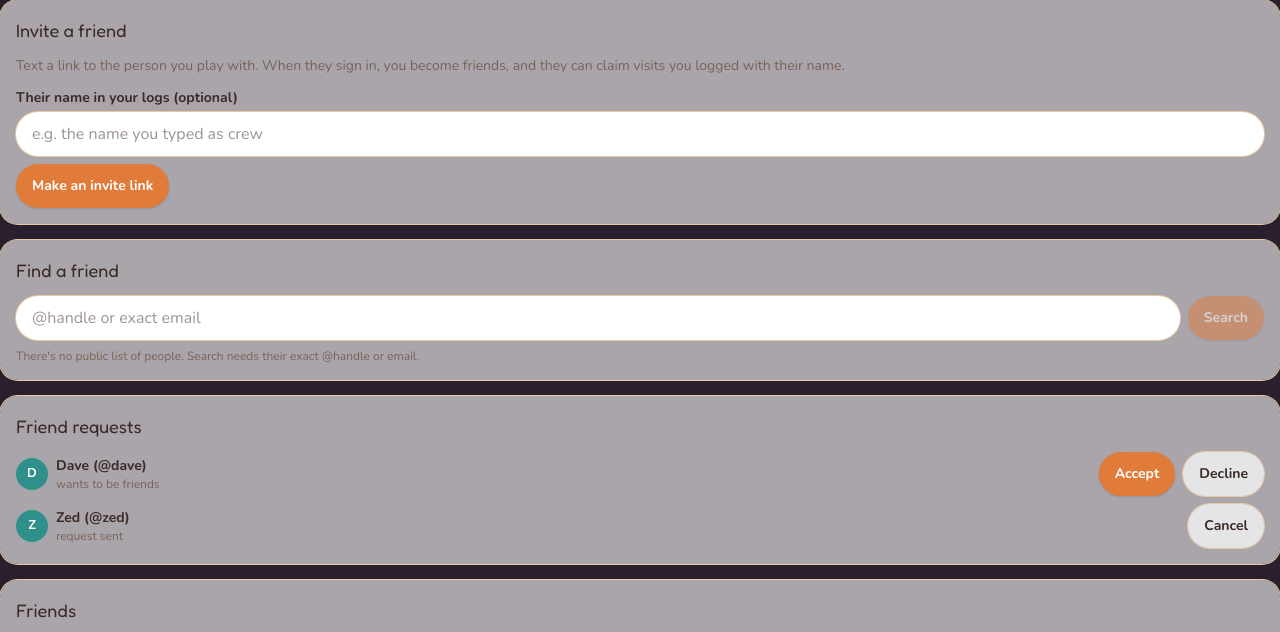
it: FriendsPanel › searches by @handle and sends a request
Type " Carol " into the field with test id "friend-search-input" at [598, 318], box [16,296,1180,340]
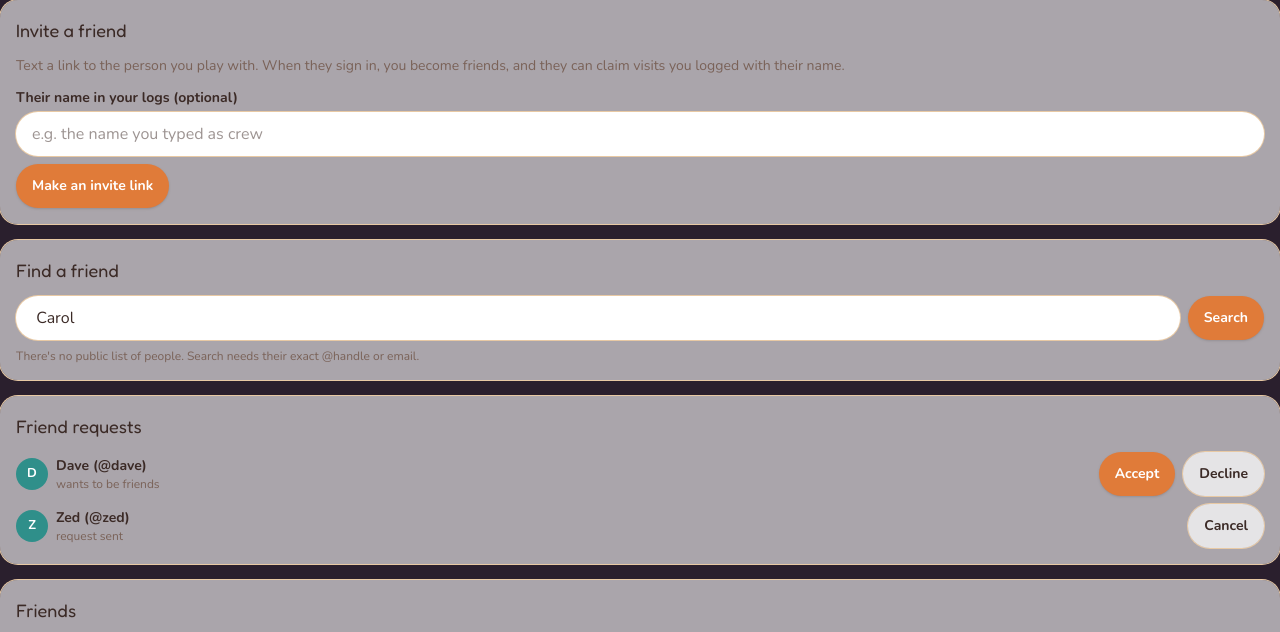
Click the button with test id "friend-search-submit" at [1226, 318], box [1188,296,1264,340]
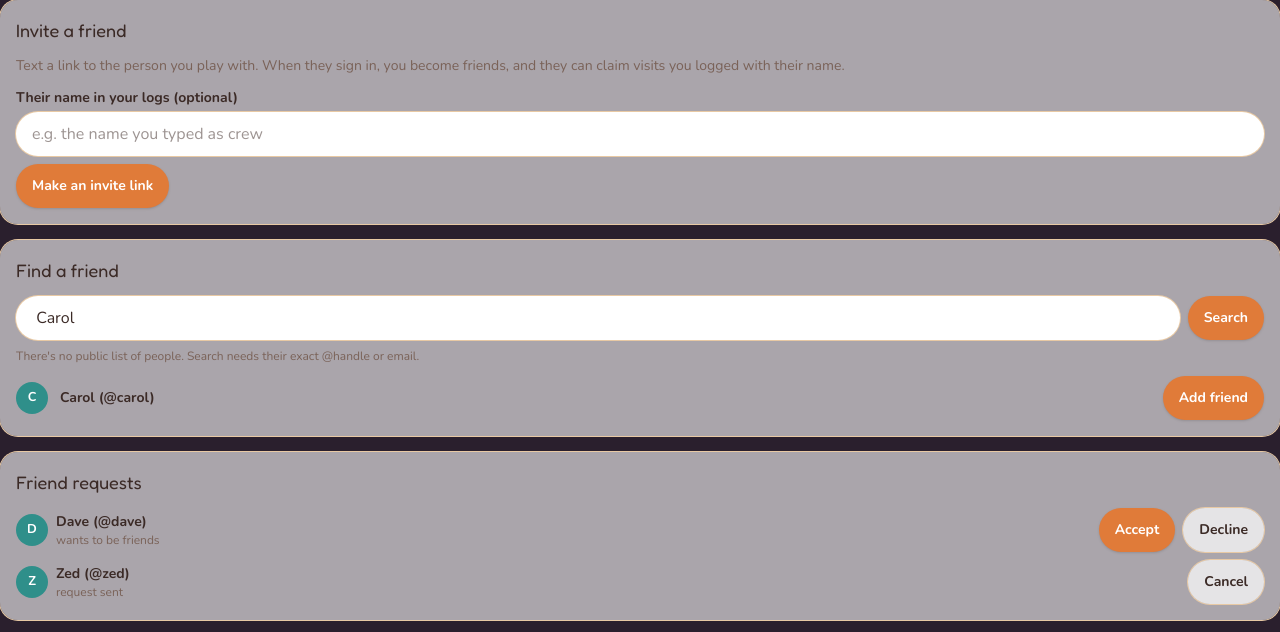
Expected: the list item with test id "friend-search-result" shows "Carol (@carol)", [60,388,155,407]
Click the button with test id "friend-add" at [1213, 398], box [1163,376,1264,420]
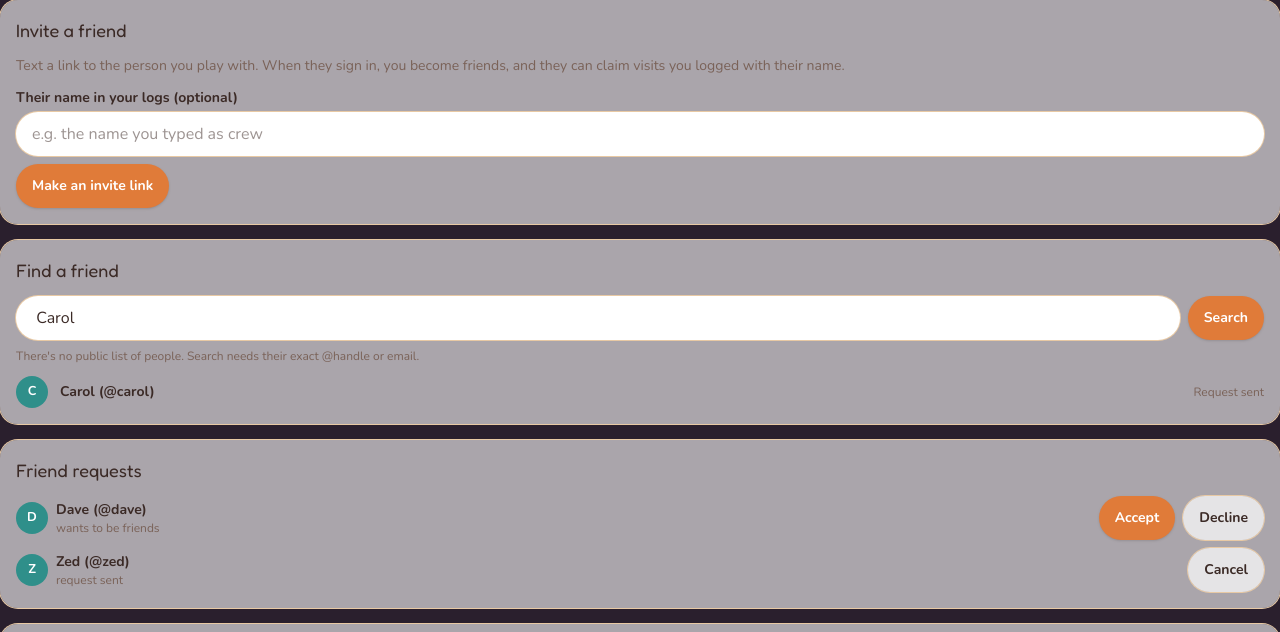
Expected: the text with test id "friend-relation" reads "Request sent", [1193,384,1264,400]
Replace the text in the field with test id "friend-search-input" with "nobody@example.com" at [598, 318], box [16,296,1180,340]
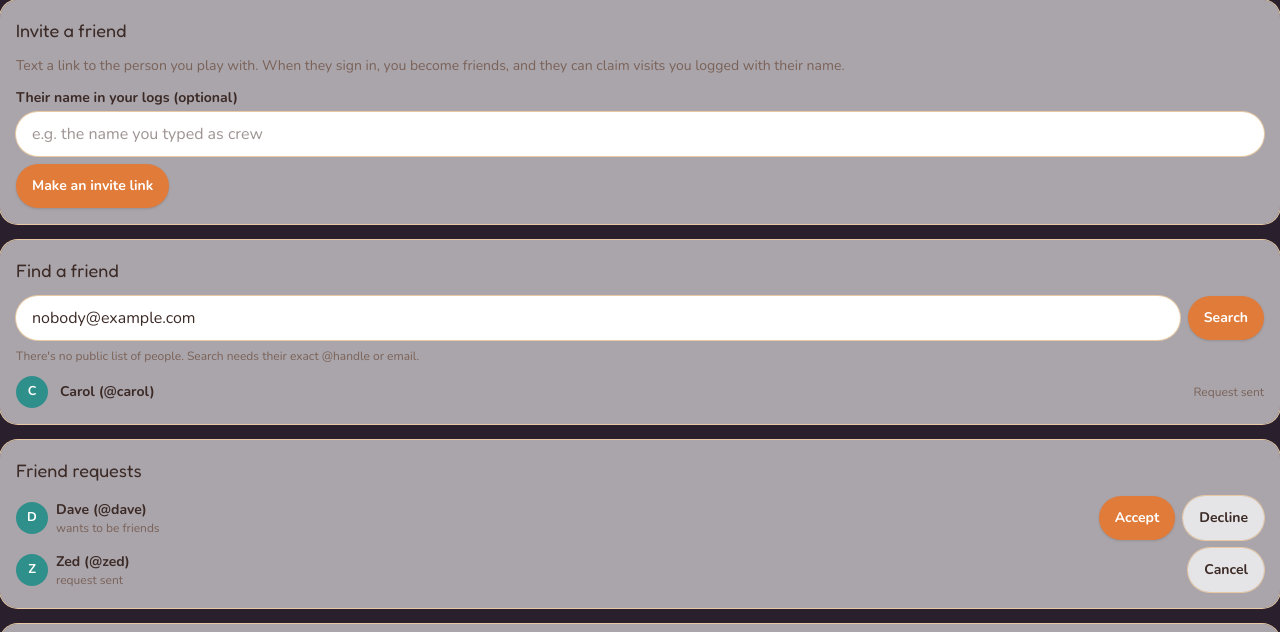
Click the button with test id "friend-search-submit" at [1226, 318], box [1188,296,1264,340]
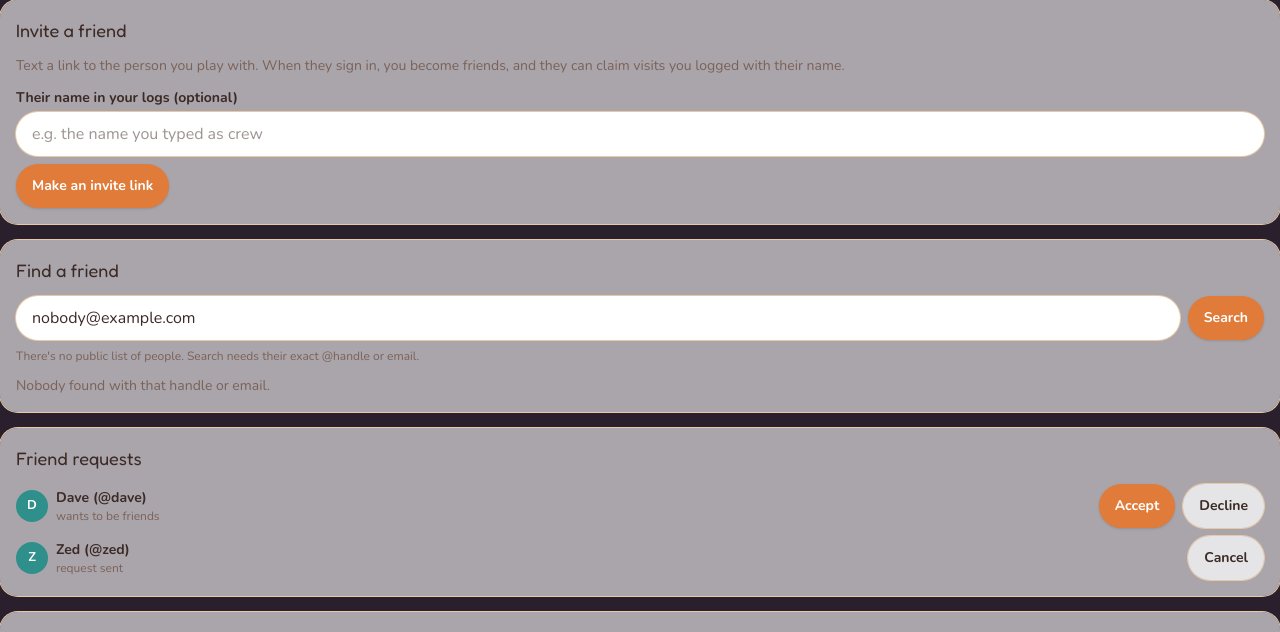
Expected: the list item with test id "friend-search-none" is shown, [16,376,270,395]
